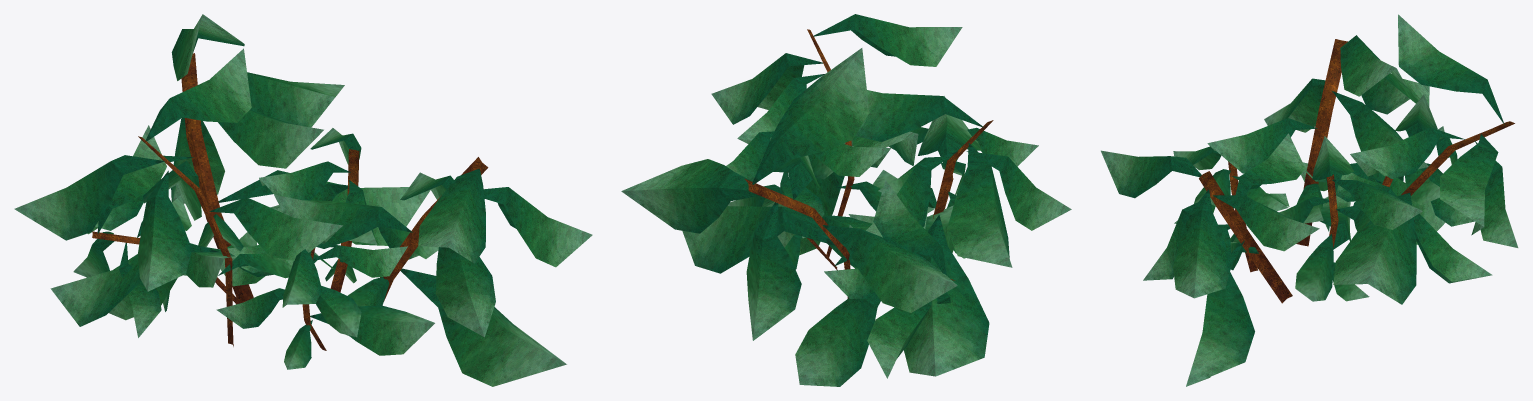
Rendered from shrub_04.glb.
3 views of the same model, side by side, from view 1: azimuth 30°, elevation 25°; view 2: azimuth 150°, elevation 25°; view 3: azimuth 270°, elevation 25° (orthographic). The views are drawn at different scales.
Parts seen in each view (by area): view 1: SHRUB_04-convex; view 2: SHRUB_04-convex; view 3: SHRUB_04-convex.
Boxes of the visible parts, x1,y1,x2,y2 form: SHRUB_04-convex: (14,14,592,386); SHRUB_04-convex: (621,14,1071,386); SHRUB_04-convex: (1101,14,1518,386).
Size of the model in its own units: 5.43 by 3.96 by 5.21.
1 material, 1 textured.
